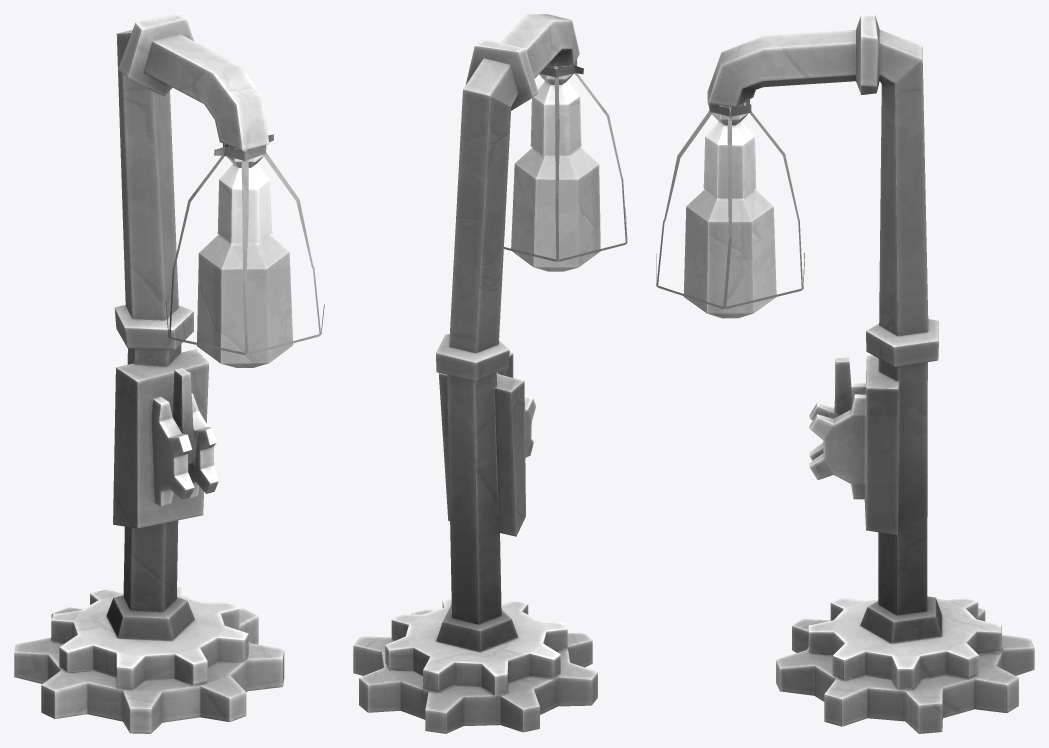
The model's file is obj_lamp02_hard.gltf.
3 renders of one model, left to right at view 1: azimuth 30°, elevation 25°; view 2: azimuth 150°, elevation 25°; view 3: azimuth 270°, elevation 25°, orthographic. The views are drawn at different scales.
Visible parts, largest first — view 1: obj_lamp02_hard; view 2: obj_lamp02_hard; view 3: obj_lamp02_hard.
Part boxes in pixels (<box>): obj_lamp02_hard: <box>14,14,324,733</box>; obj_lamp02_hard: <box>353,14,627,733</box>; obj_lamp02_hard: <box>656,14,1034,733</box>.
Size of what is drawn, in the model's own units: 0.4032 by 1.12 by 0.5897.
Materials: 1 (1 with a texture image).
